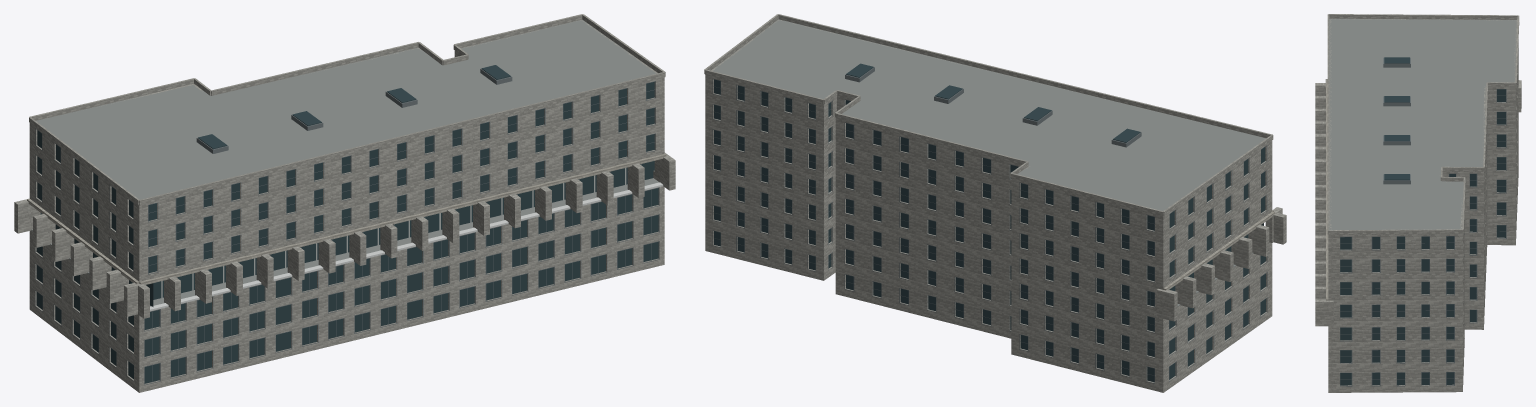
The picture shows the model from 3 angles, left to right: view 1: azimuth 30°, elevation 25°; view 2: azimuth 150°, elevation 25°; view 3: azimuth 270°, elevation 25°; orthographic projection. The views are drawn at different scales.
Visible parts, largest first — view 1: uncho__stone, uncho__roof, uncho__glass, uncho__frame, uncho__cream, uncho__light; view 2: uncho__stone, uncho__roof, uncho__glass, uncho__frame, uncho__cream; view 3: uncho__roof, uncho__stone, uncho__glass, uncho__frame, uncho__cream.
Part boxes in pixels (x1=…): uncho__stone: x1=14, y1=14, x2=675, y2=392; uncho__roof: x1=31, y1=20, x2=658, y2=306; uncho__glass: x1=36, y1=65, x2=658, y2=383; uncho__frame: x1=35, y1=55, x2=659, y2=385; uncho__cream: x1=27, y1=153, x2=666, y2=284; uncho__light: x1=150, y1=182, x2=663, y2=311; uncho__stone: x1=704, y1=14, x2=1286, y2=392; uncho__roof: x1=712, y1=19, x2=1265, y2=306; uncho__glass: x1=714, y1=63, x2=1265, y2=382; uncho__frame: x1=712, y1=67, x2=1267, y2=383; uncho__cream: x1=1163, y1=210, x2=1274, y2=290; uncho__roof: x1=1329, y1=18, x2=1517, y2=230; uncho__stone: x1=1315, y1=14, x2=1521, y2=392; uncho__glass: x1=1340, y1=57, x2=1505, y2=385; uncho__frame: x1=1340, y1=57, x2=1517, y2=386; uncho__cream: x1=1326, y1=83, x2=1328, y2=300.
Size of the model in its own units: 80.26 by 27.45 by 31.38.
6 materials, 2 textured.
